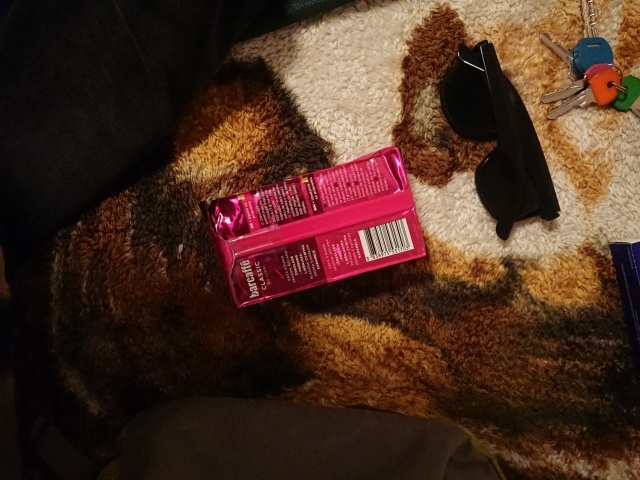Barcaffe Classic Original 225g: (200, 141, 430, 314)
